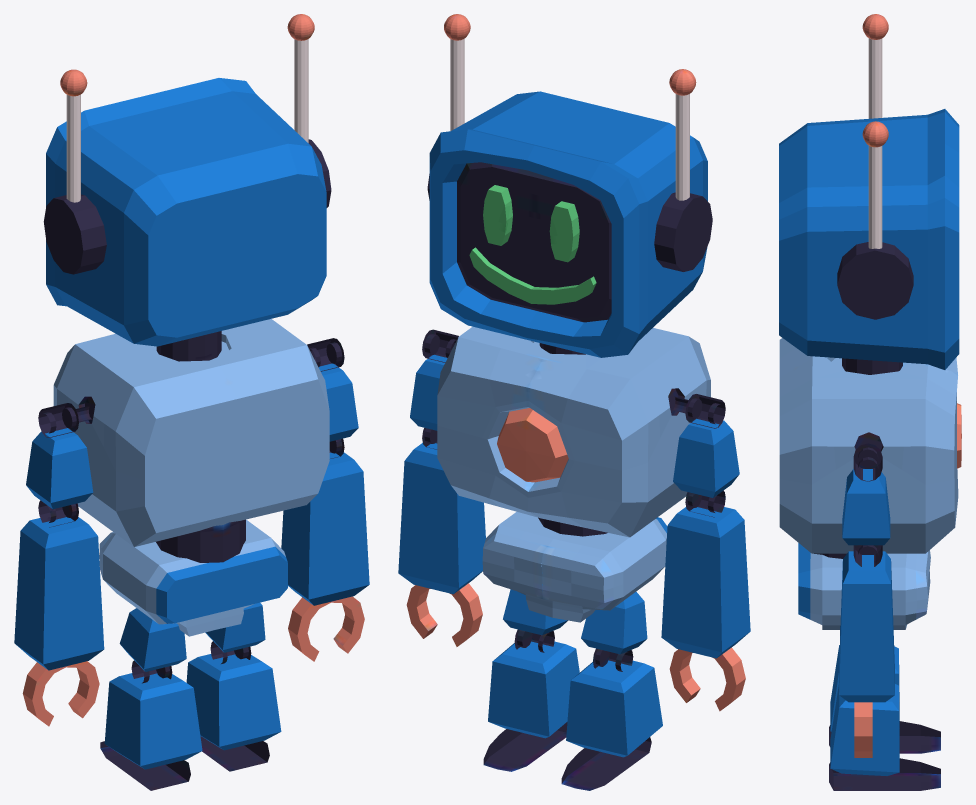
Rendered from robot.fbx.
3 renders of one model, left to right at view 1: azimuth 30°, elevation 25°; view 2: azimuth 150°, elevation 25°; view 3: azimuth 270°, elevation 25°, orthographic. The views are drawn at different scales.
Parts seen in each view (by area): view 1: Cube.003; view 2: Cube.003; view 3: Cube.003.
Boxes of the visible parts, bbox=[...] form: Cube.003: bbox=[14, 14, 369, 790]; Cube.003: bbox=[398, 14, 750, 790]; Cube.003: bbox=[779, 14, 961, 790].
Size of the model in its own units: 342 by 705 by 168.
